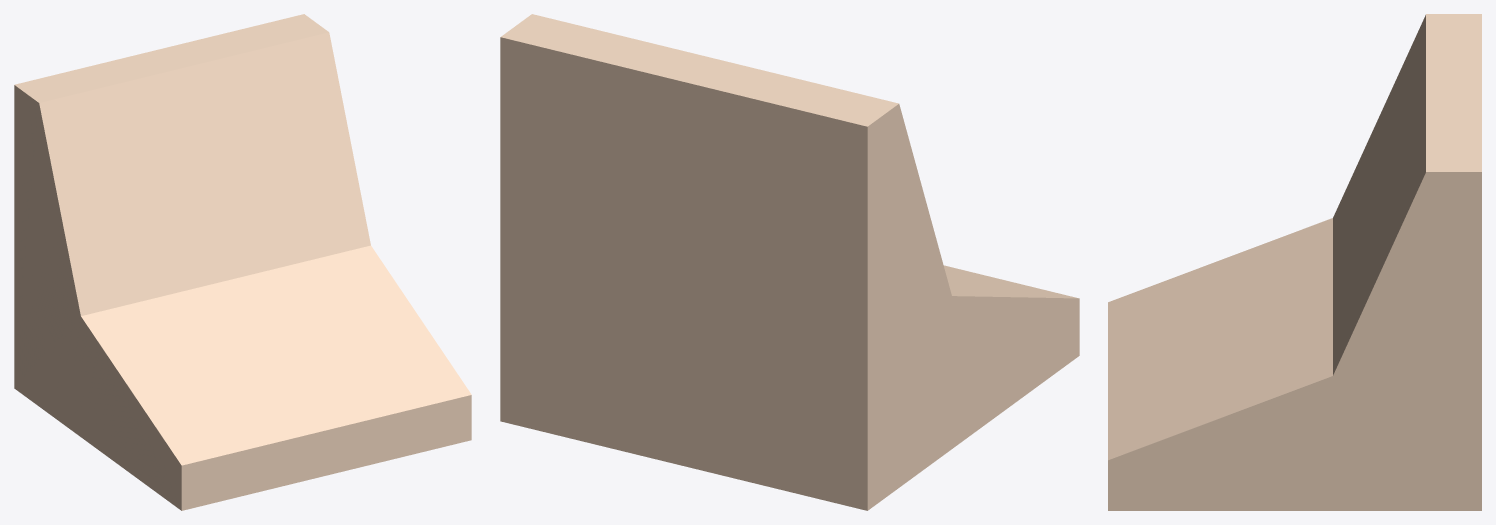
The model's file is Abstract_Castle_Block_1_Unit_Beige_Ramp_01.fbx.
3 views of the same model, side by side, from view 1: azimuth 30°, elevation 25°; view 2: azimuth 150°, elevation 25°; view 3: azimuth 270°, elevation 25° (orthographic). The views are drawn at different scales.
Visible parts, largest first — view 1: Abstract_Castle_Block_1_Unit_Beige_Ramp_01; view 2: Abstract_Castle_Block_1_Unit_Beige_Ramp_01; view 3: Abstract_Castle_Block_1_Unit_Beige_Ramp_01.
Boxes of the visible parts, x1,y1,x2,y2 form: Abstract_Castle_Block_1_Unit_Beige_Ramp_01: (14,14,471,510); Abstract_Castle_Block_1_Unit_Beige_Ramp_01: (500,14,1079,510); Abstract_Castle_Block_1_Unit_Beige_Ramp_01: (1108,14,1481,510).
Size of the model in its own units: 98.43 by 98.43 by 98.43.
